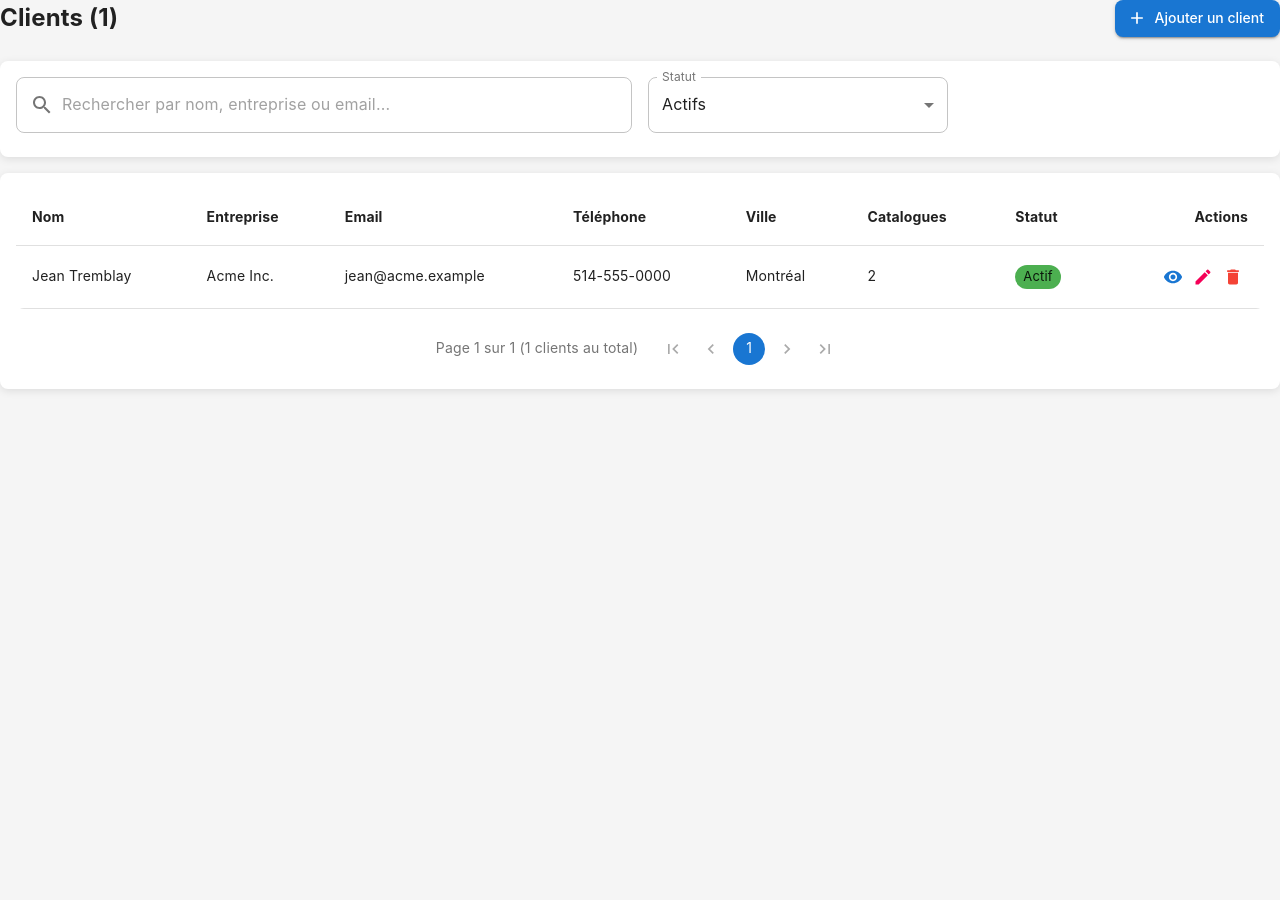
ClientsPage › ouvre le dialogue de création au clic sur « Ajouter un client »
The image size is (1280, 900).
Expected: the text "Jean Tremblay" is shown, [16, 245, 191, 308]
Step 1. Click the button "Ajouter un client" → (1197, 18), box [1114, 0, 1279, 36]
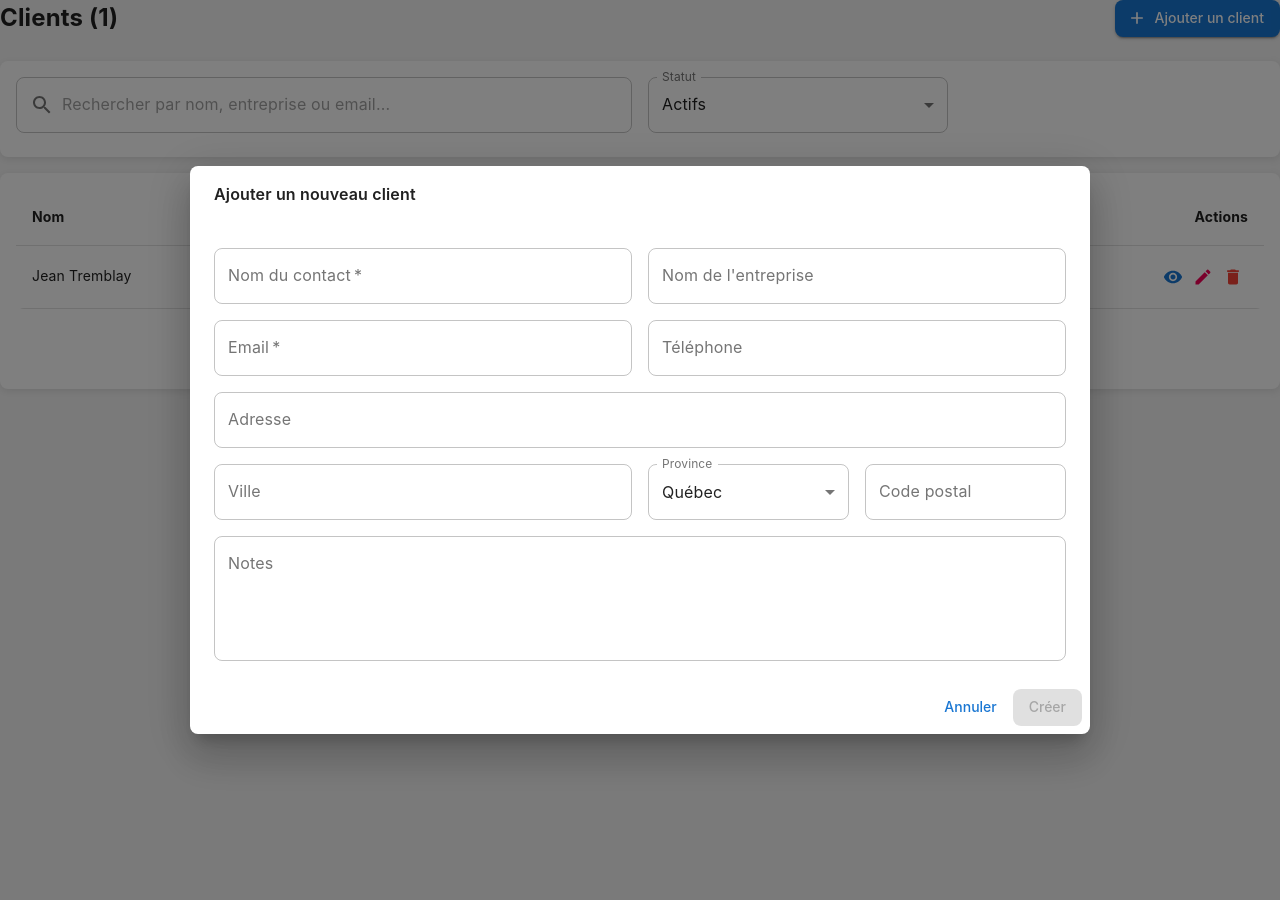
Expected: the heading "Ajouter un nouveau client" is shown, [214, 184, 416, 204]
Expected: the button "Créer" is shown, [1013, 689, 1082, 726]
